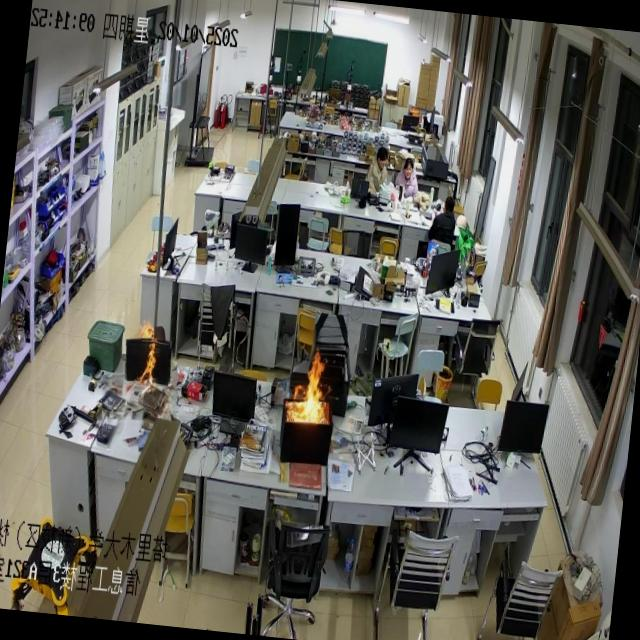fire: (278, 350, 332, 456), (127, 319, 162, 392)
